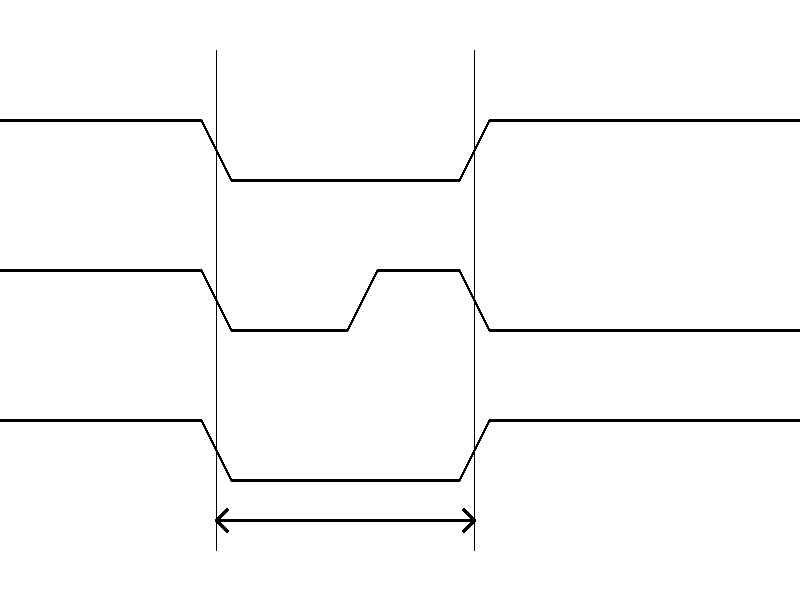double_arrow: (216, 505, 474, 535)
